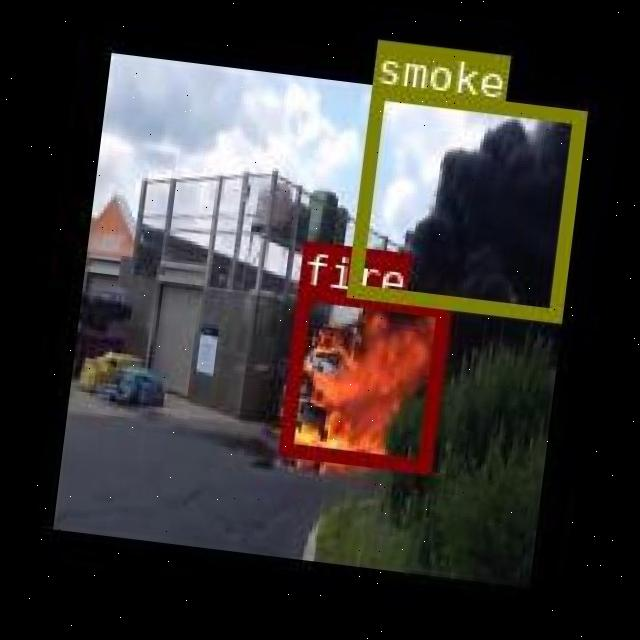fire: (277, 285, 448, 468)
smoke: (346, 84, 584, 318)
